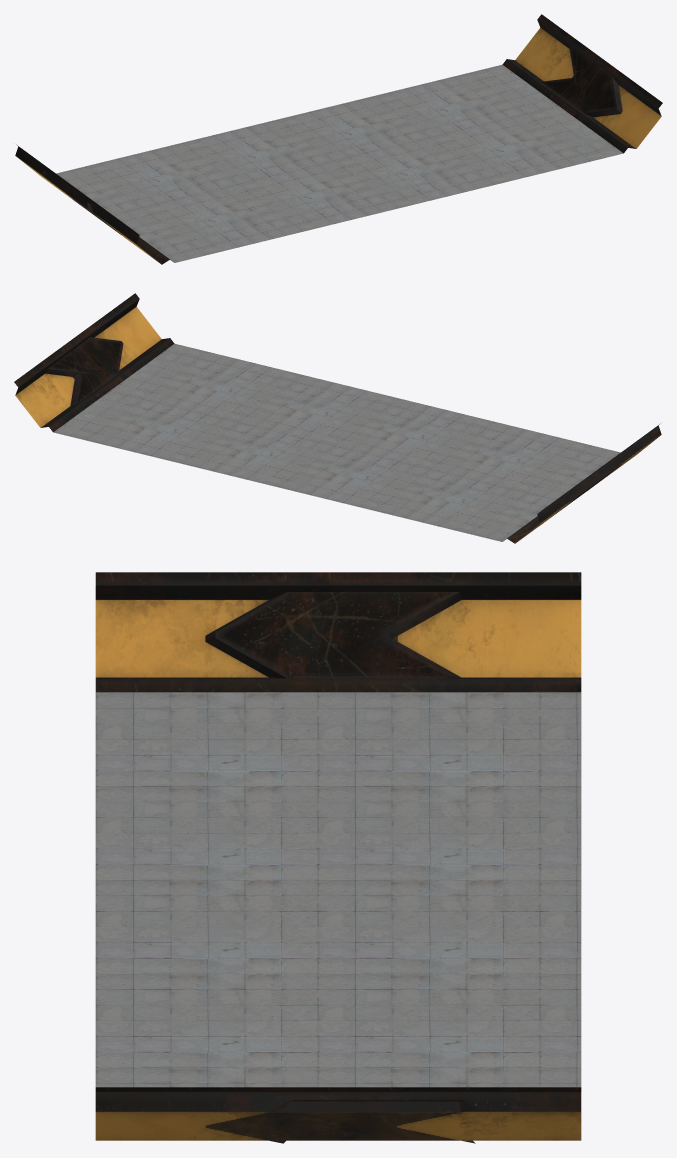
File: Game.Track.Section.001.glb
3 renders of one model, top to bottom at view 1: azimuth 30°, elevation 25°; view 2: azimuth 150°, elevation 25°; view 3: azimuth 270°, elevation 25°, orthographic. The views are drawn at different scales.
Visible parts, largest first — view 1: Plane.002; view 2: Plane.002; view 3: Plane.002.
Boxes of the visible parts, x1,y1,x2,y2 form: Plane.002: (15,14,662,264); Plane.002: (14,293,661,543); Plane.002: (95,572,581,1143).
Bounding box in the file's own units: 68.56 × 5.24 × 27.19.
Materials: 1 (1 with a texture image).
